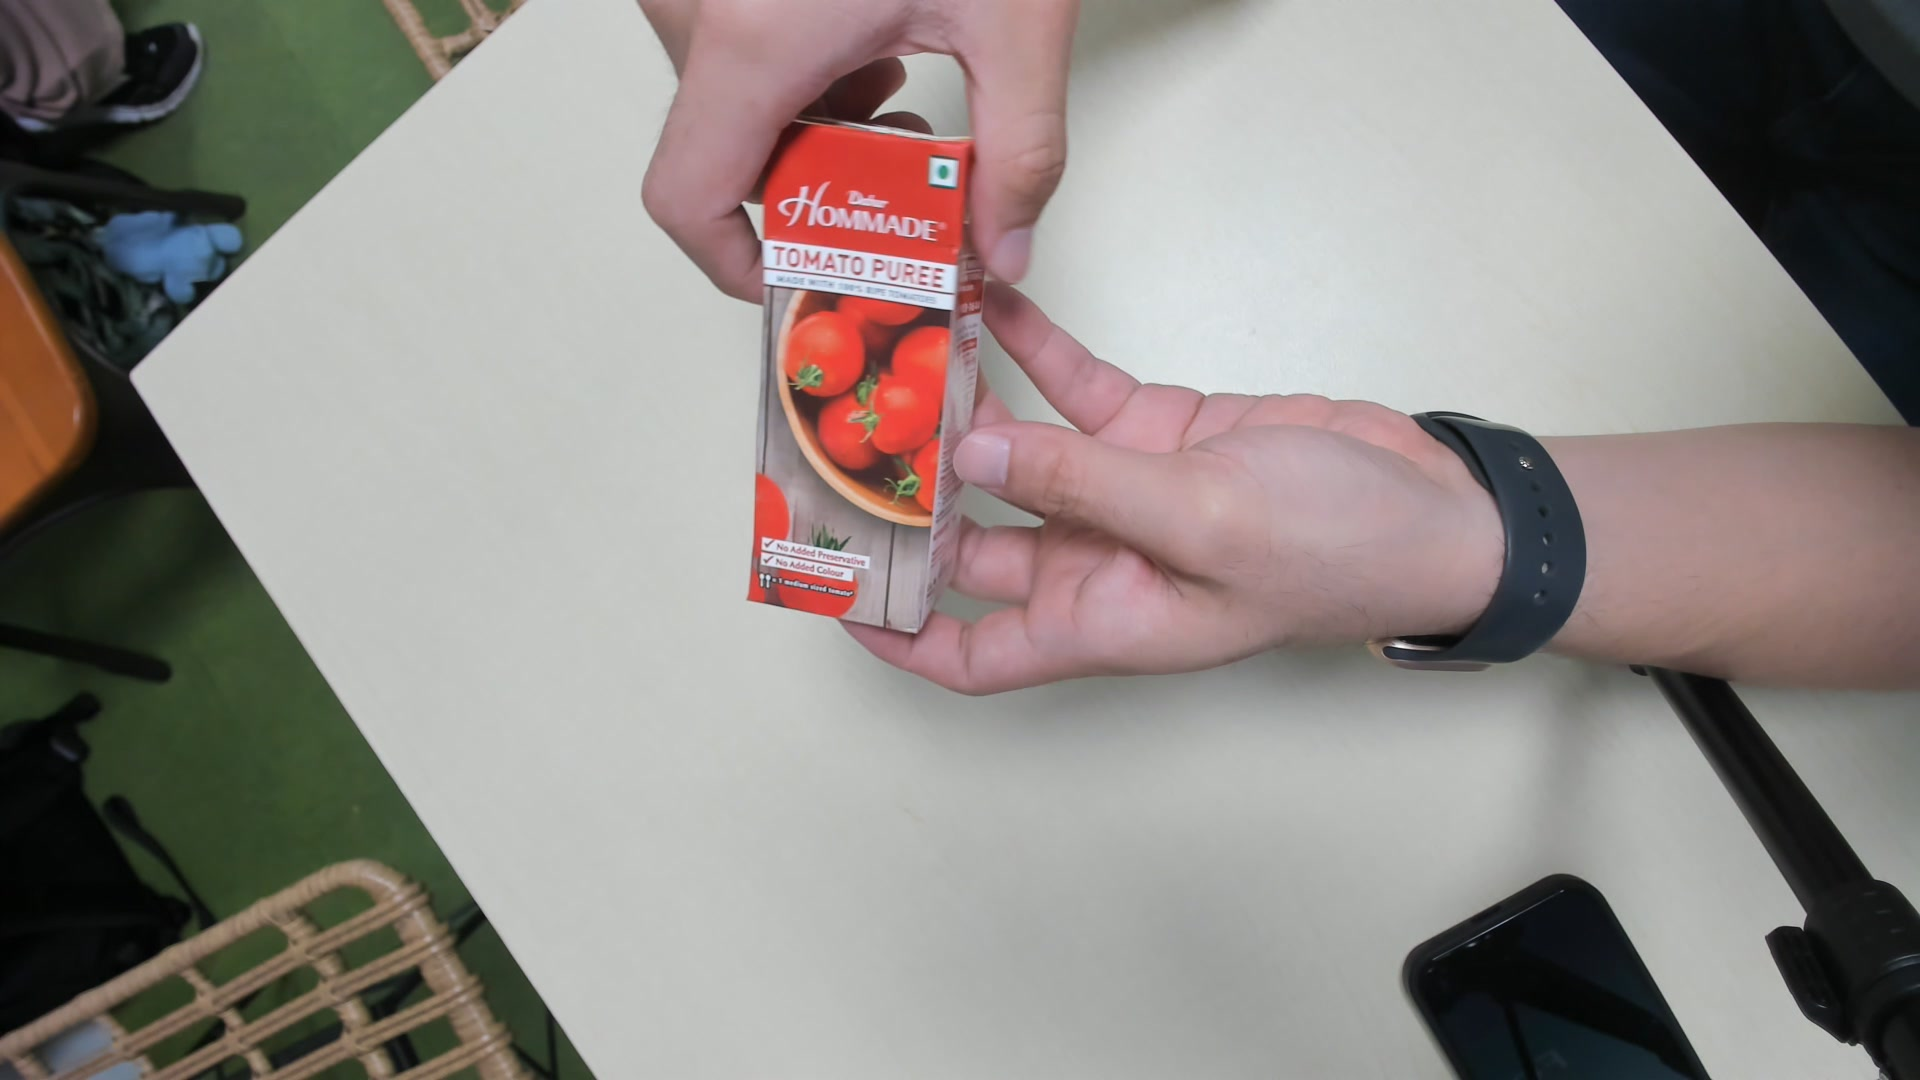OtherSauceDressing_200-299g_NonHalal_NonHealthy: (733, 107, 984, 636)
